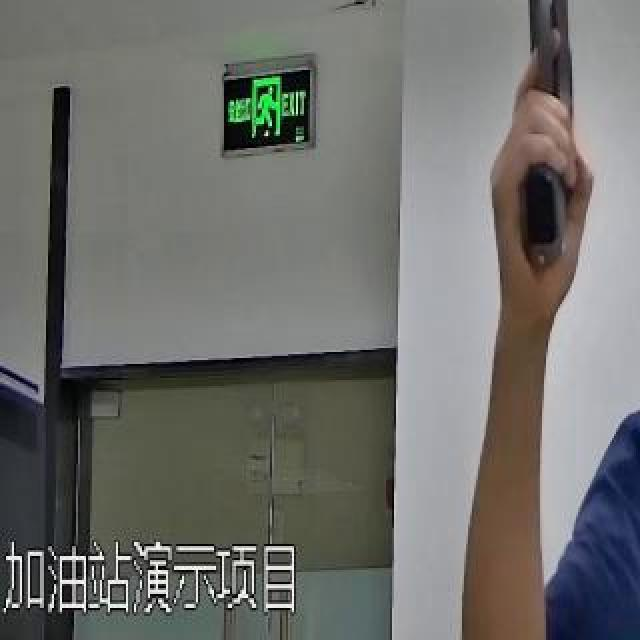Guns: (496, 0, 600, 290)
